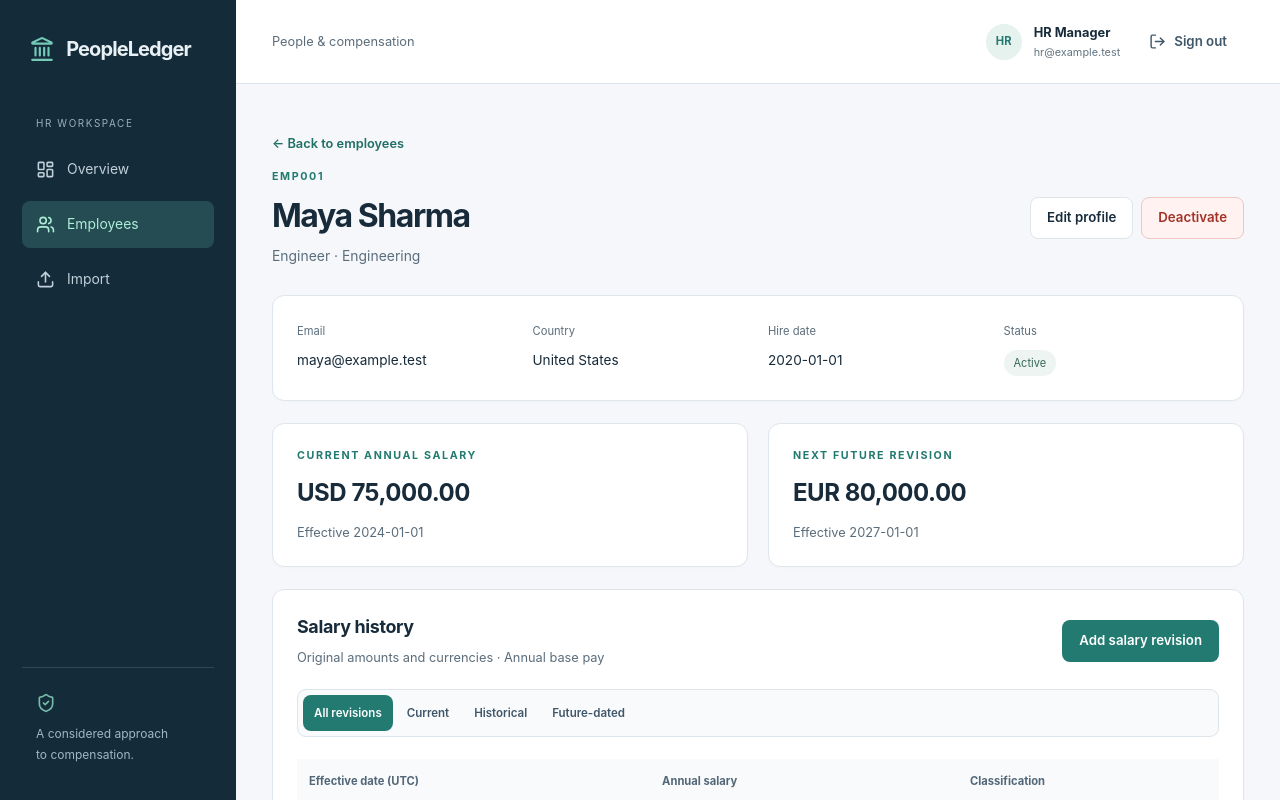
Test case: employee and salary flows › requires confirmation before deactivation and preserves visible salary history
The image size is (1280, 800).
Check: the heading "Maya Sharma" is shown, box [272,196,470,236]
Click the button "Deactivate" at (1193, 218), box [1141,197,1244,239]
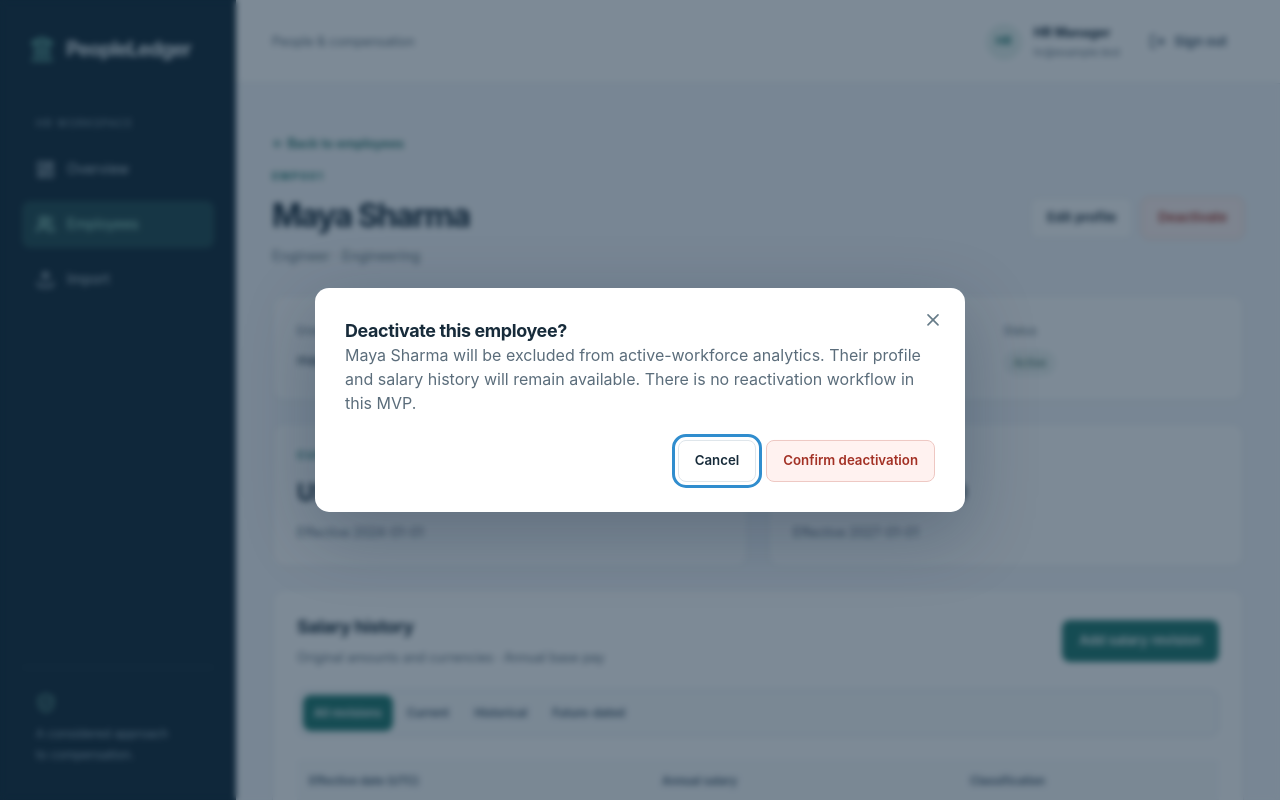
Click the button "Confirm deactivation" at (851, 461), box [766,440,935,482]
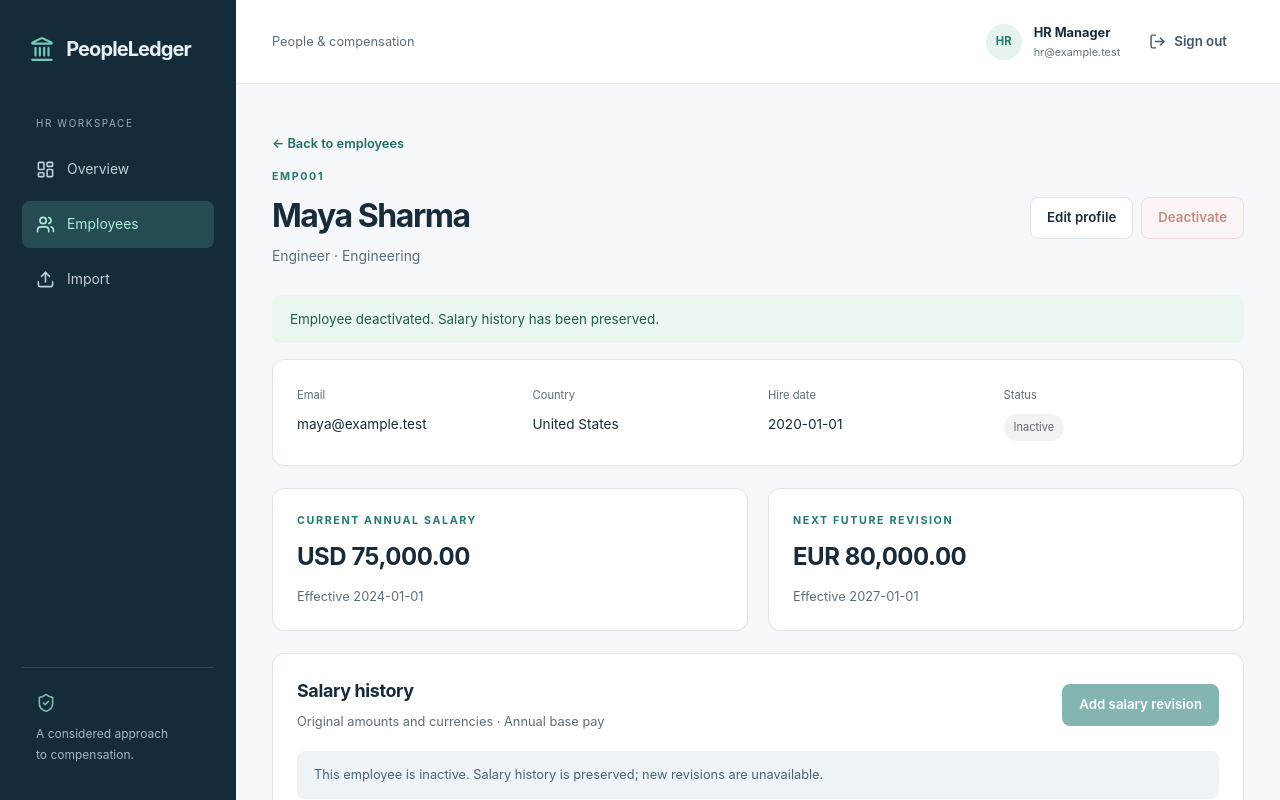
Check: the heading "Salary history" is shown, box [297,680,414,701]
Check: the text "Employee deactivated. Salary history has been preserved." is shown, box [272,294,1244,343]
Check: the button "Add salary revision" is disabled, box [1062,684,1219,726]
